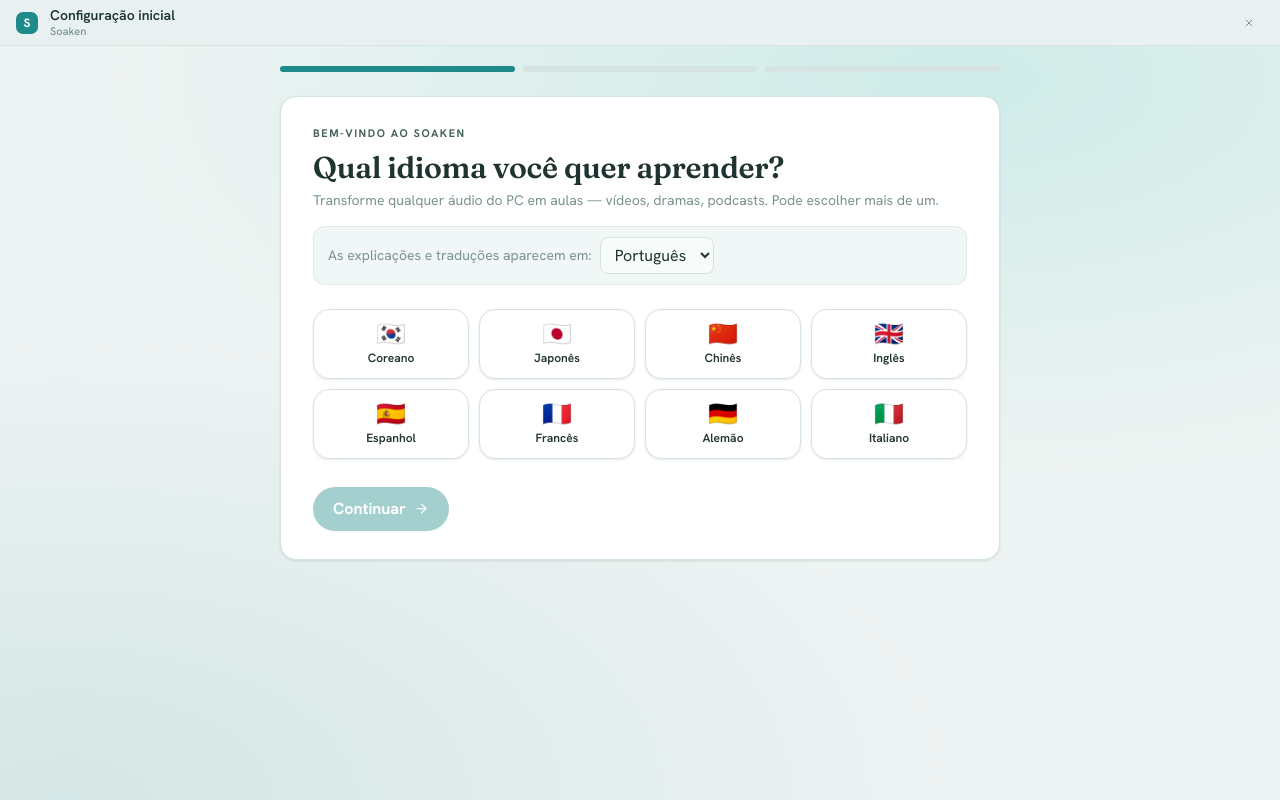
Test: Onboarding — seleção de idioma (multi) › seletor de nível só aparece após escolher; Continuar começa bloqueado
Expected: the heading "Qual idioma você quer aprender?" is shown, [313, 148, 784, 186]
Expected: the field labelled "Nível em" is not shown
What coordinates should you click on to do the following:
click the button "🇰🇷 Coreano"
I would click on:
 (391, 344)
Its box is [313, 308, 469, 378].
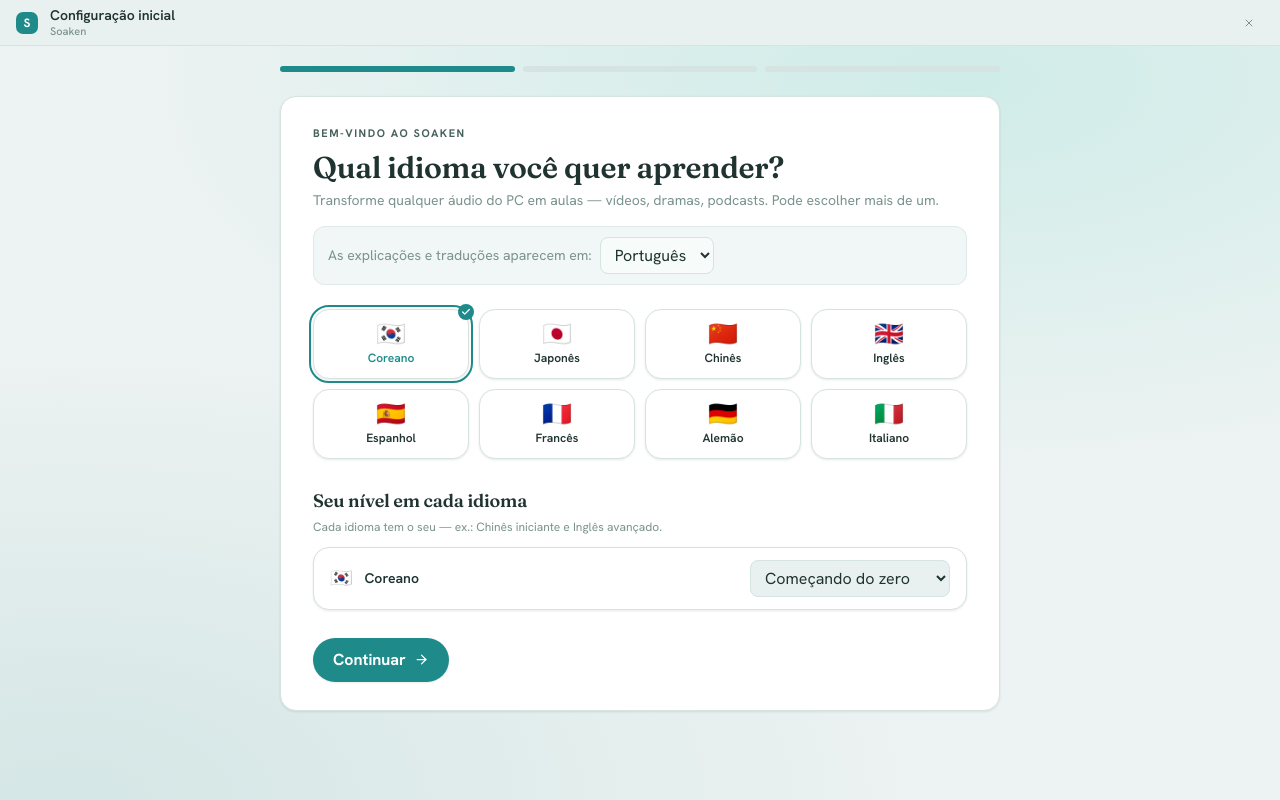
Expected: the dropdown named "Nível em Coreano" is shown, [750, 560, 950, 596]
Expected: the button "Continuar" is enabled, [313, 638, 449, 682]
